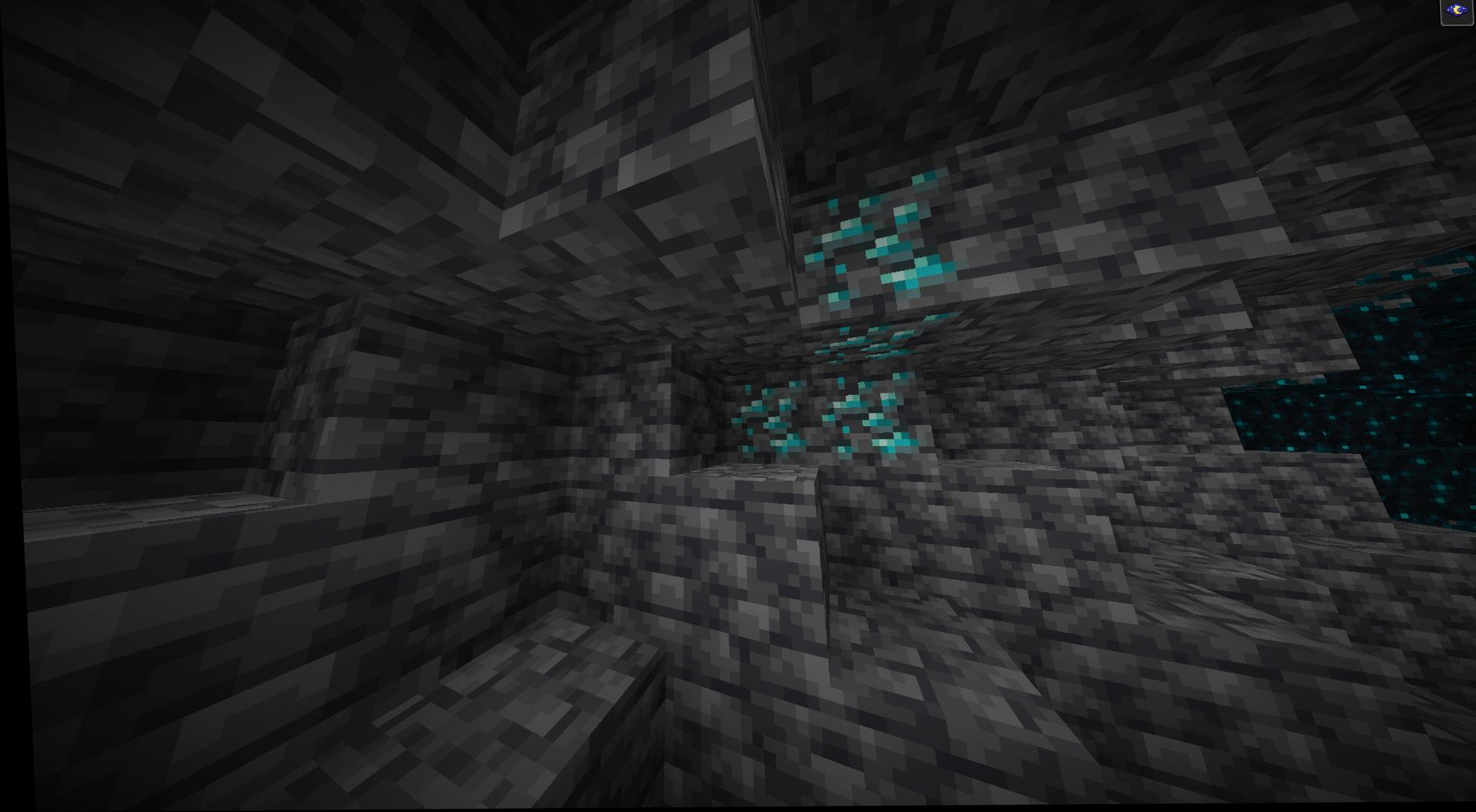diamond ore: (797, 173, 969, 355), (814, 367, 929, 461), (714, 372, 812, 468)
